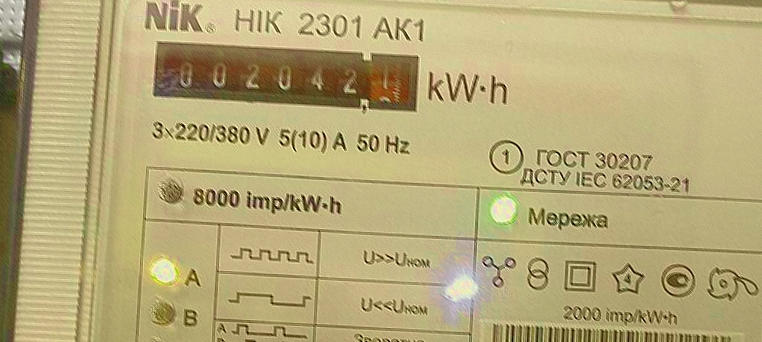0: (176, 56, 195, 87), (275, 59, 294, 90), (210, 56, 228, 88)
1: (377, 59, 392, 90)
2: (243, 59, 262, 89), (341, 63, 359, 93)
4: (308, 59, 327, 91)
screen: (148, 35, 425, 119)
